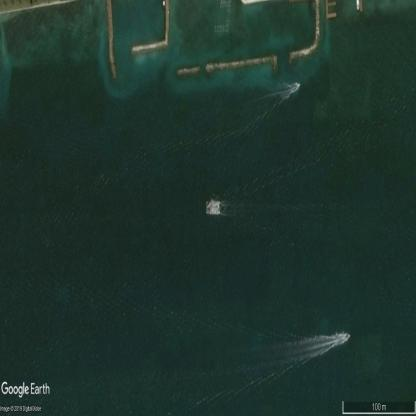ship: (206, 198, 221, 215)
